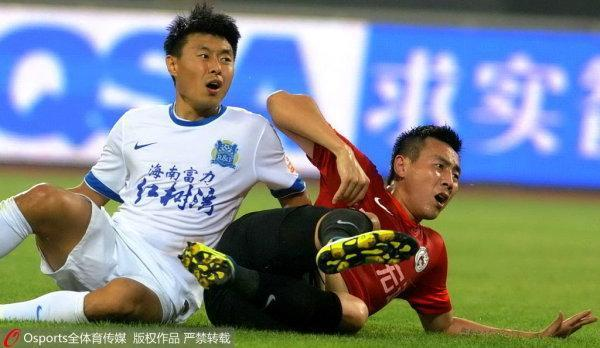Fall-Detected: (215, 66, 570, 342)
